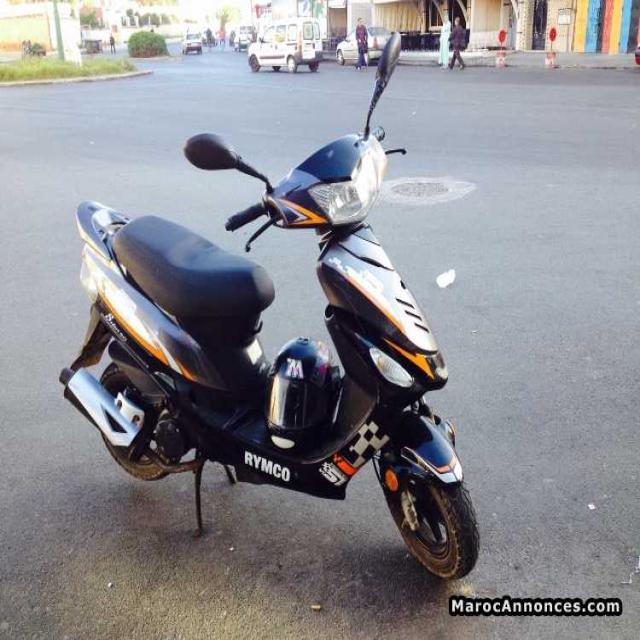Car: (247, 19, 323, 72)
Motorcycle: (61, 38, 480, 580)
